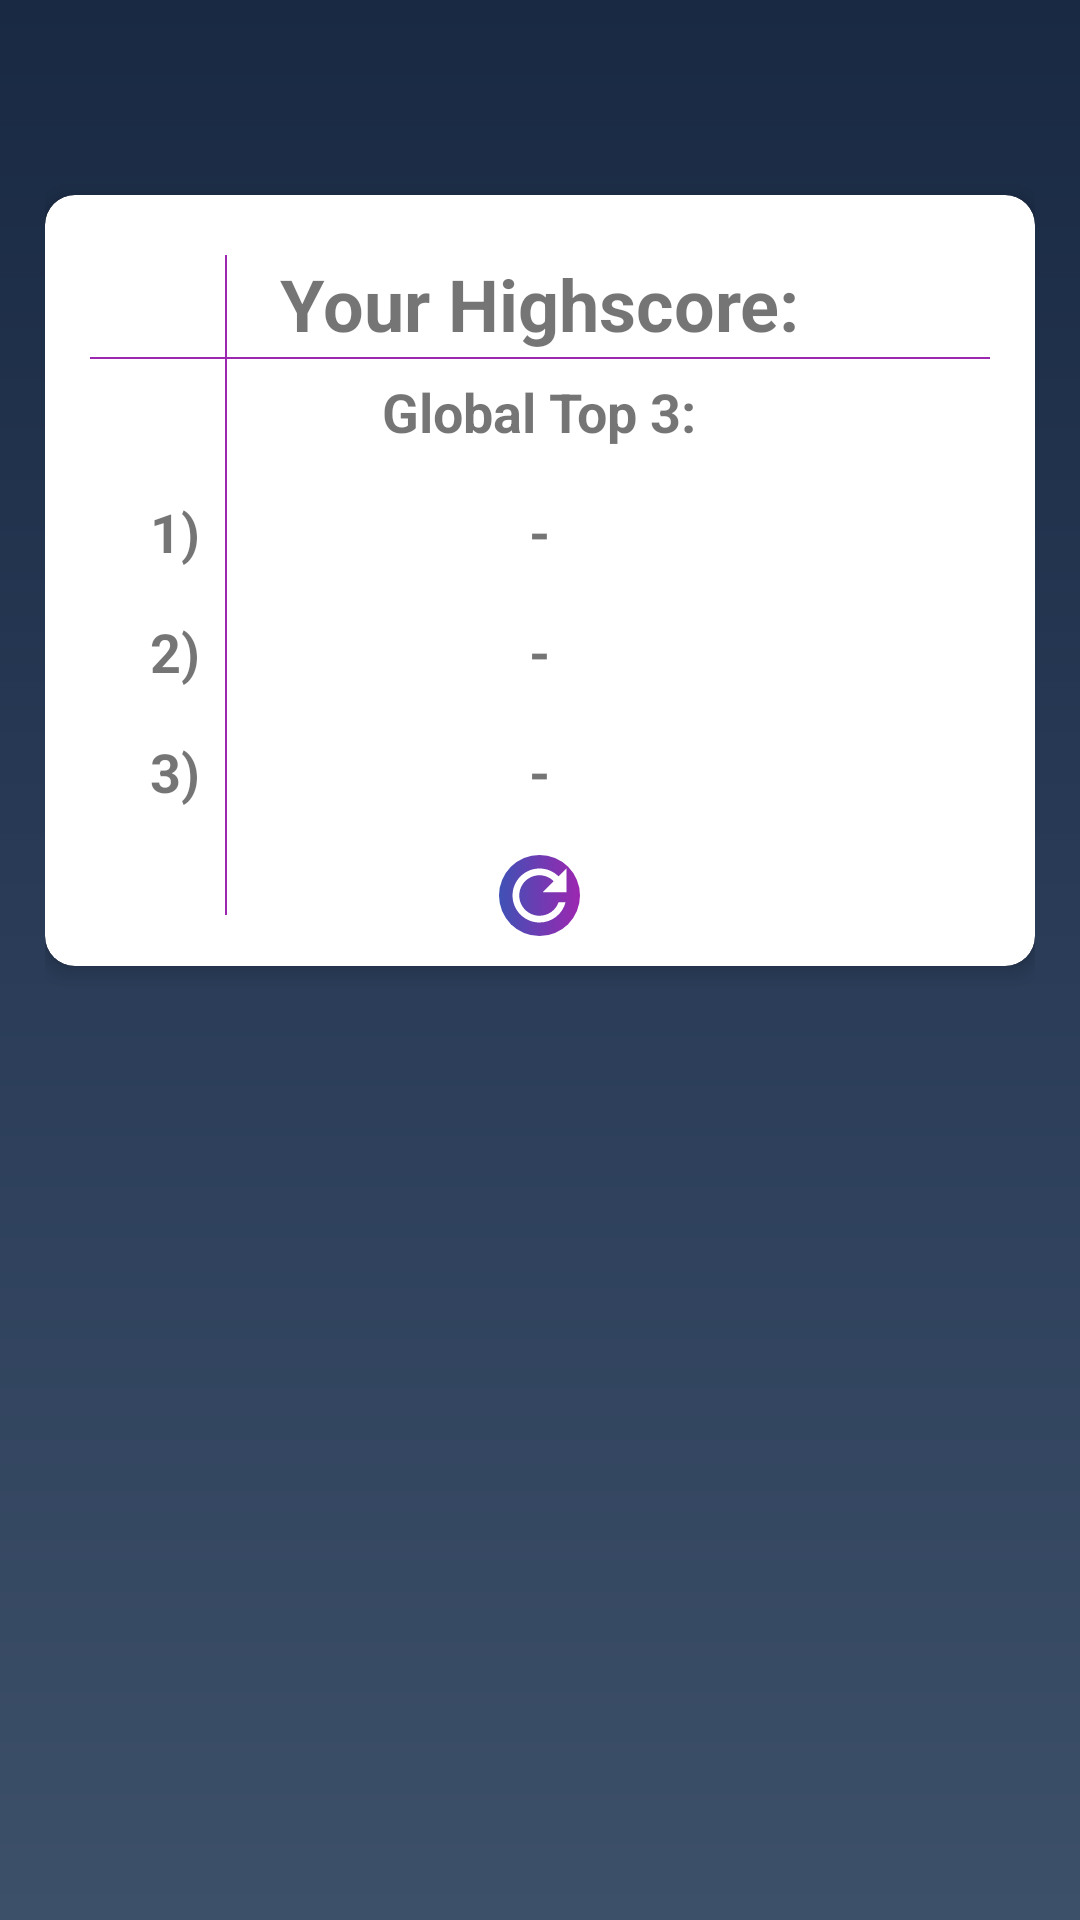

Point at icon controls on the screen. Image size 1080 × 1920, points as [x,y].
refresh: [539,895]
